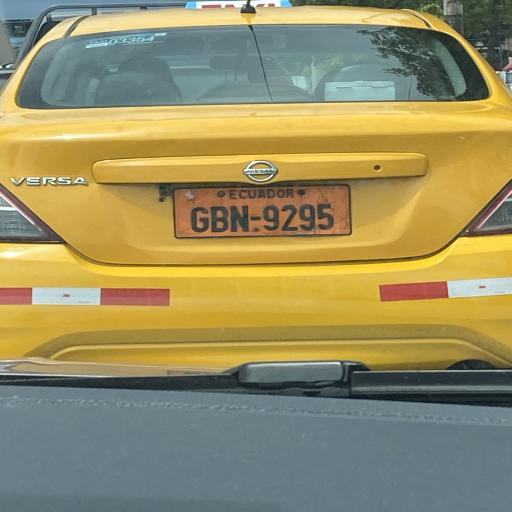license_plate: (174, 185, 350, 237)
